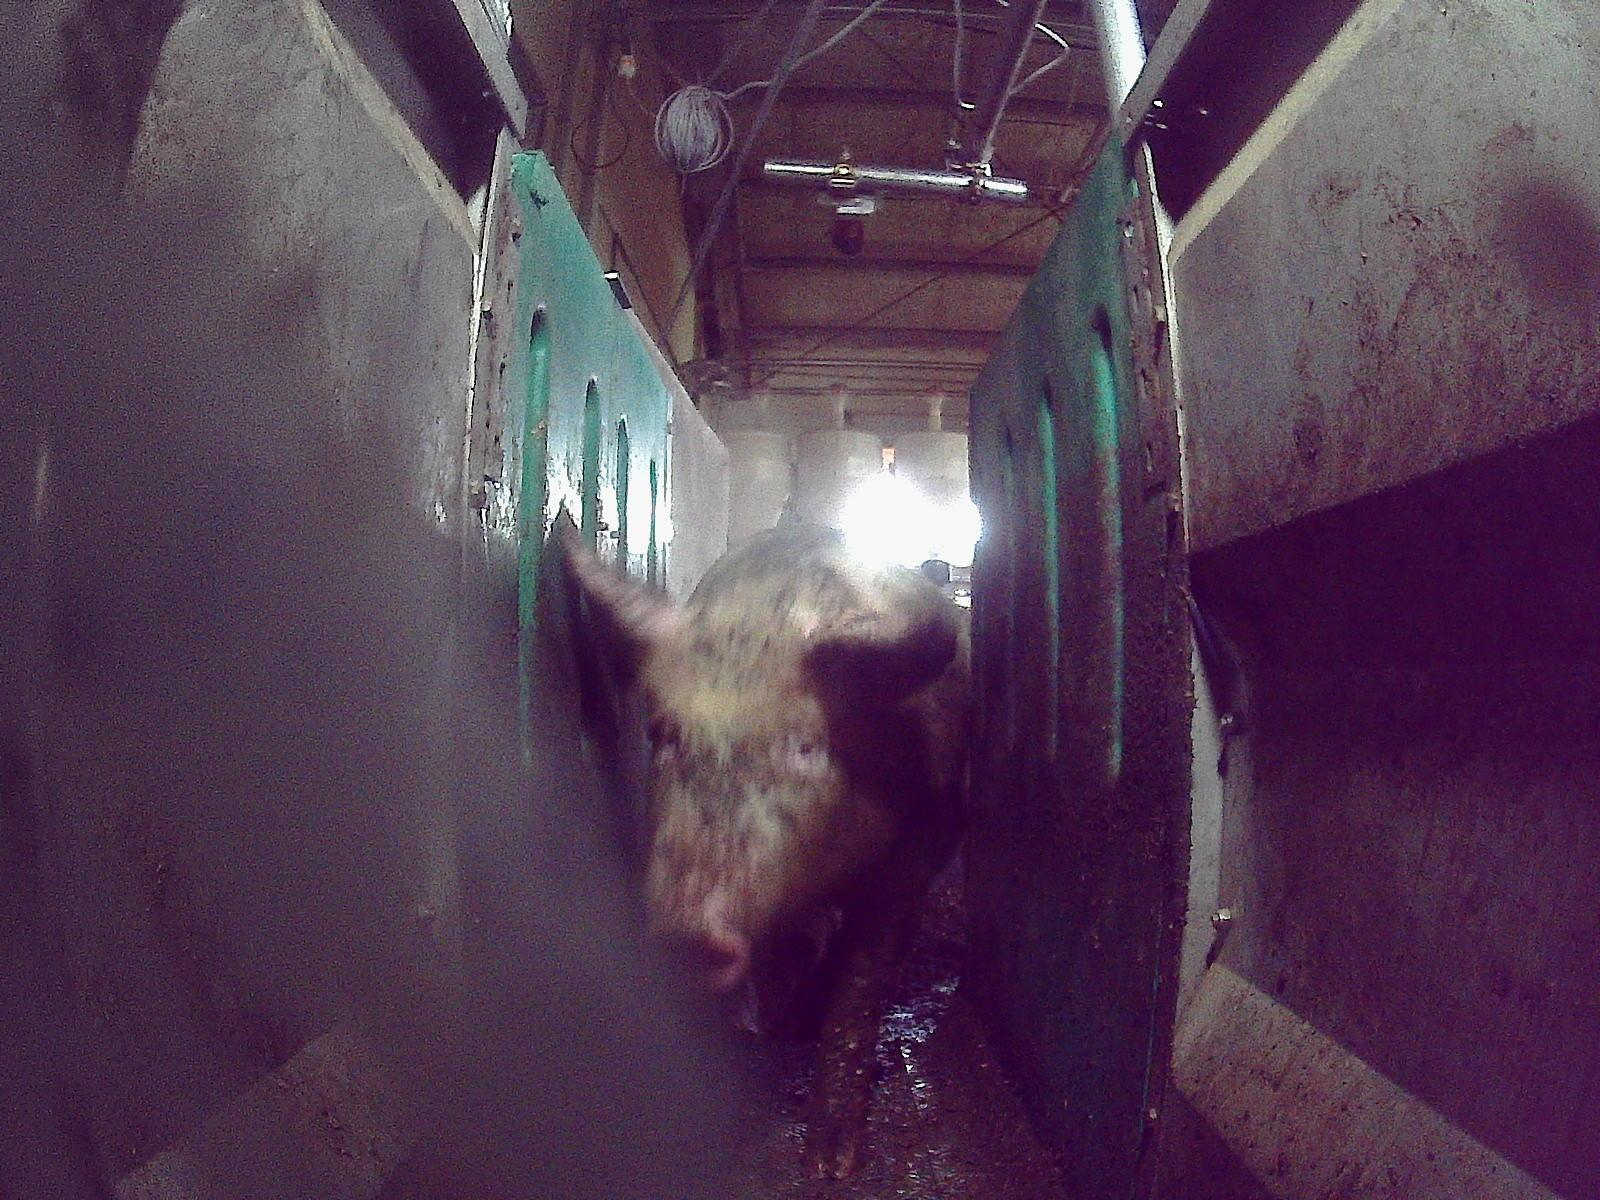Face: (634, 645, 846, 991)
